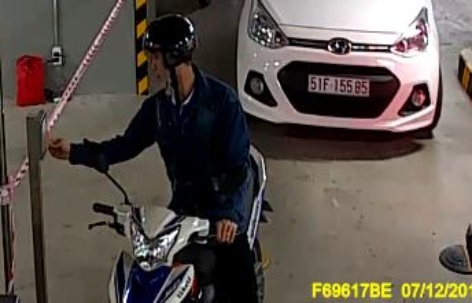plate: (297, 69, 373, 99)
